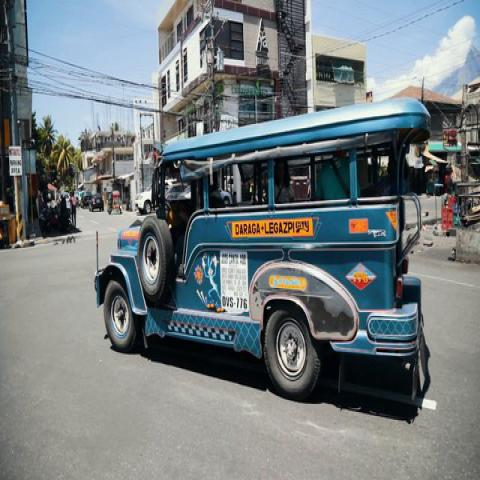truck: (96, 103, 436, 392)
